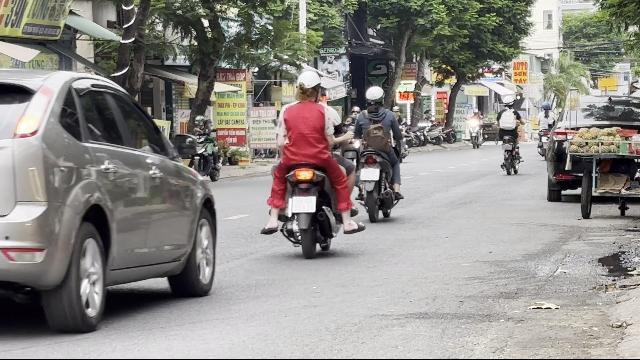helmet: (292, 67, 324, 101), (364, 84, 386, 108)
licenseplate: (292, 197, 316, 213), (360, 168, 380, 180)
motorcyclist: (262, 66, 356, 258), (350, 84, 406, 221)
